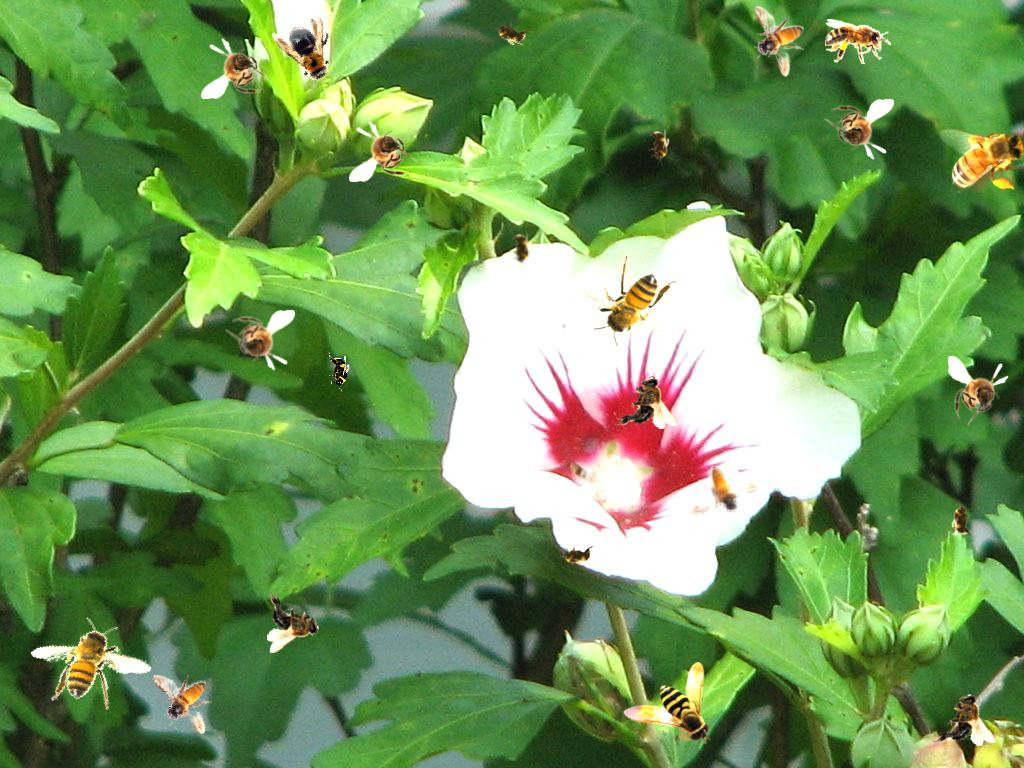Bee: (25, 603, 160, 727), (572, 254, 683, 348), (623, 662, 711, 744), (271, 9, 349, 95), (151, 661, 221, 744), (939, 125, 1024, 193), (200, 37, 273, 101), (225, 310, 295, 371), (948, 356, 1009, 426), (349, 121, 419, 182), (824, 99, 894, 160), (690, 466, 761, 516), (754, 6, 804, 77), (267, 591, 320, 653), (933, 693, 995, 746), (615, 376, 677, 429), (825, 19, 891, 64), (488, 14, 534, 52), (557, 544, 597, 566), (510, 229, 532, 269), (328, 352, 350, 392), (648, 126, 670, 166), (951, 500, 973, 540)
